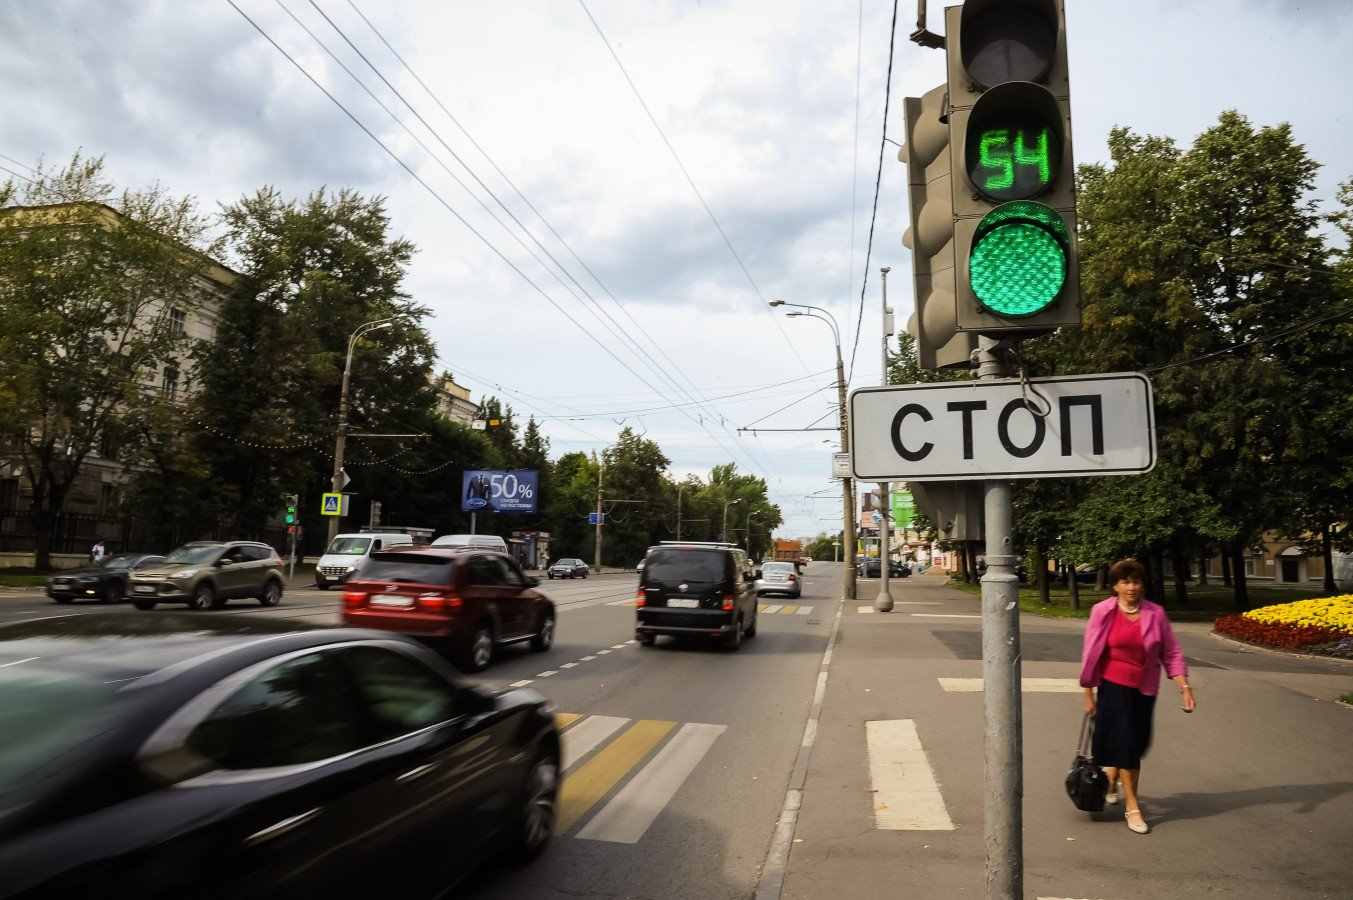tl: (942, 1, 1087, 323)
